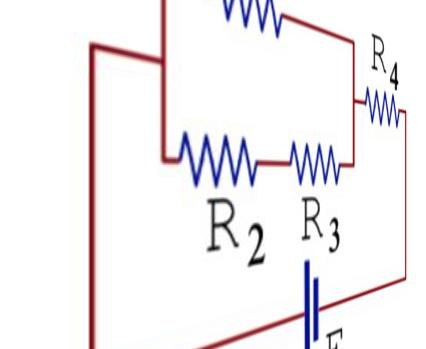resistor: (171, 122, 263, 184), (209, 0, 293, 46), (277, 130, 345, 184), (360, 80, 407, 124)
